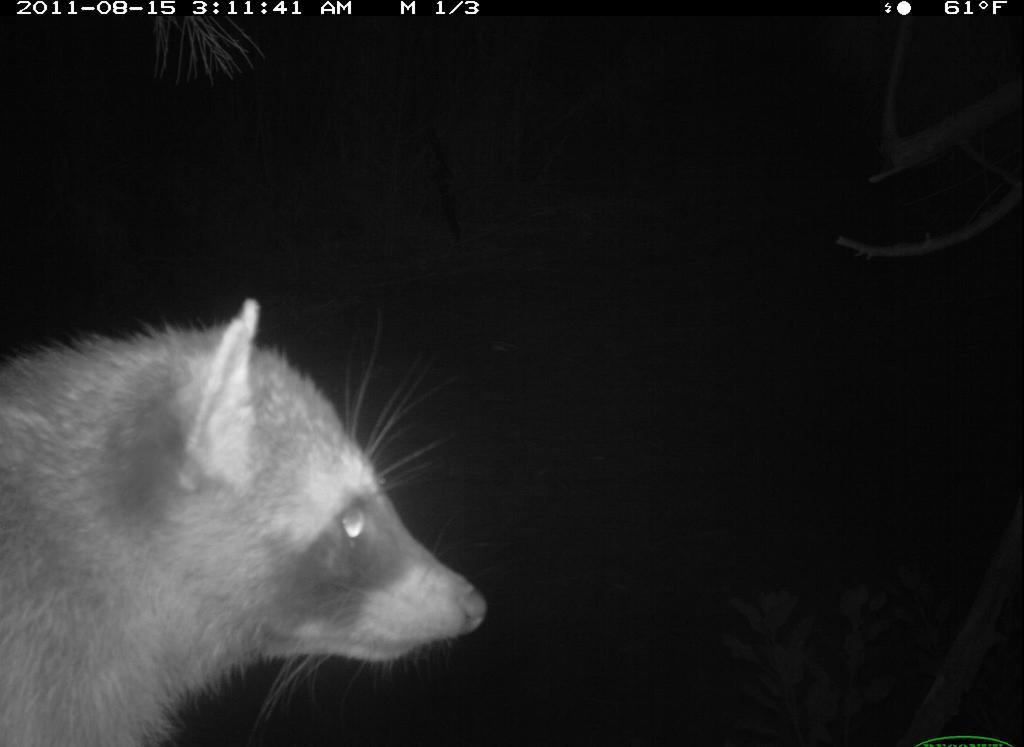raccoon: (1, 287, 502, 742)
